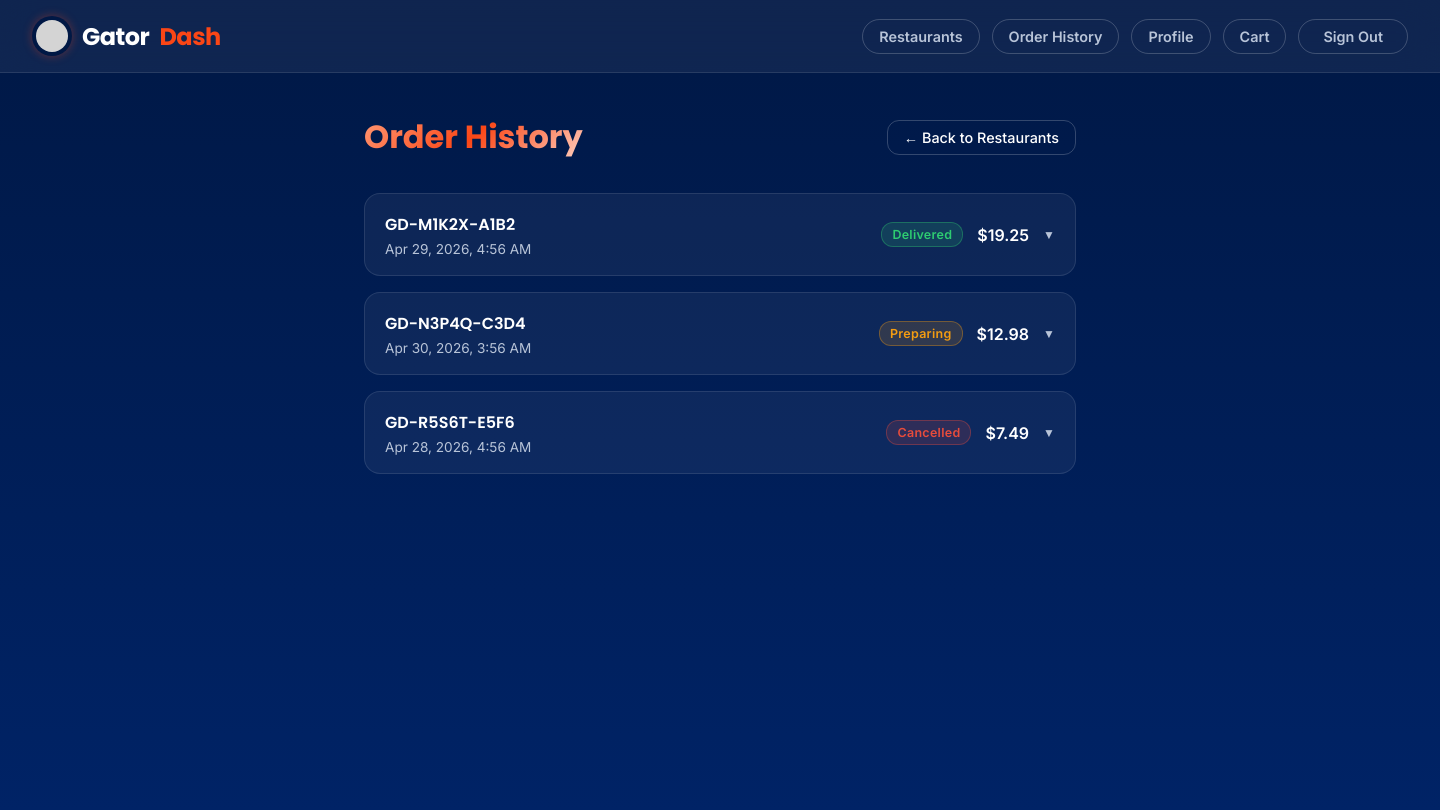
OrderHistory Component › expands order card on click to show items
Expected: the text "GD-M1K2X-A1B2" is shown, top-left (385, 212), bottom-right (531, 237)
Click the text "GD-M1K2X-A1B2" at (450, 224), box top-left (385, 213), bottom-right (1055, 257)
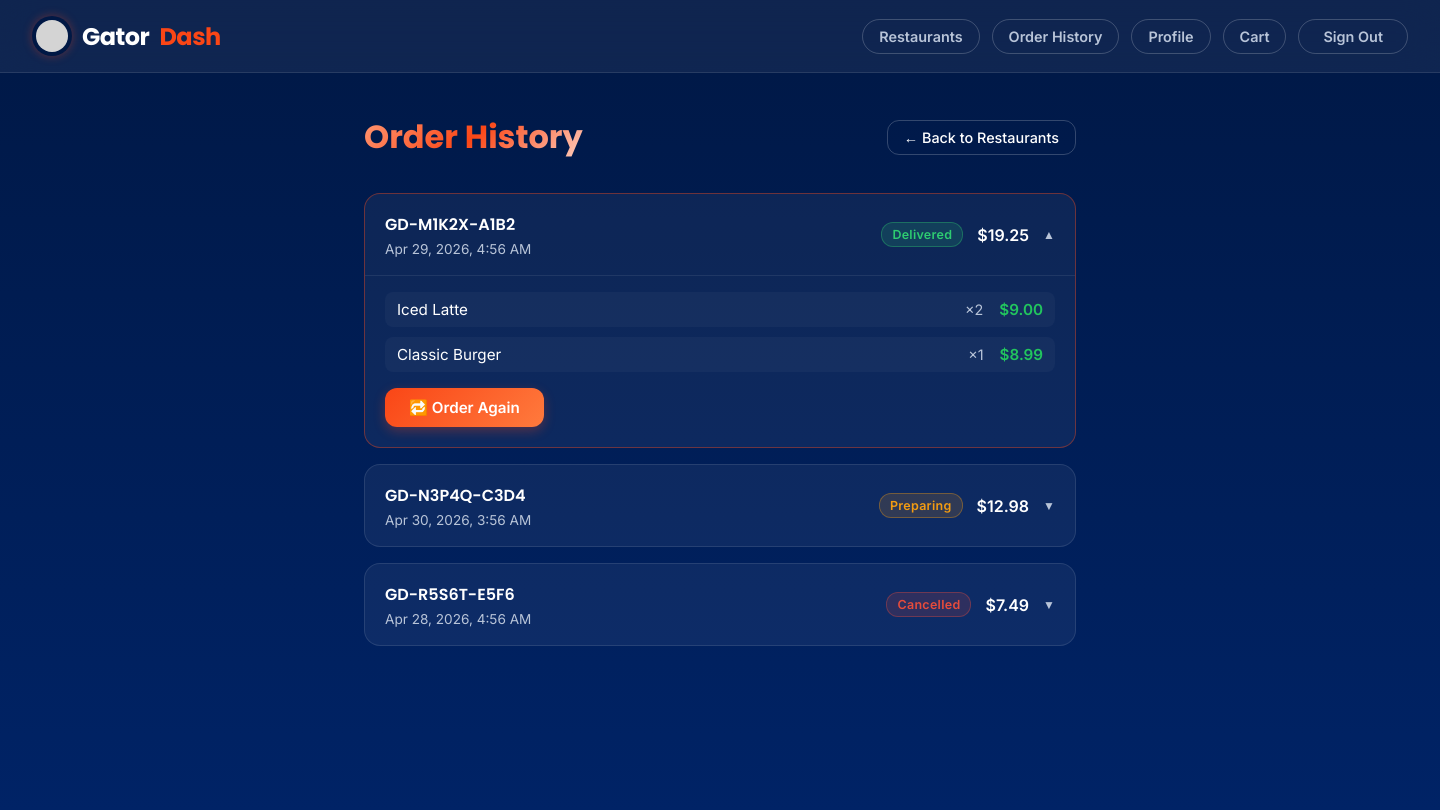
Result: the text "Iced Latte" is shown at top-left (397, 300), bottom-right (468, 319)
